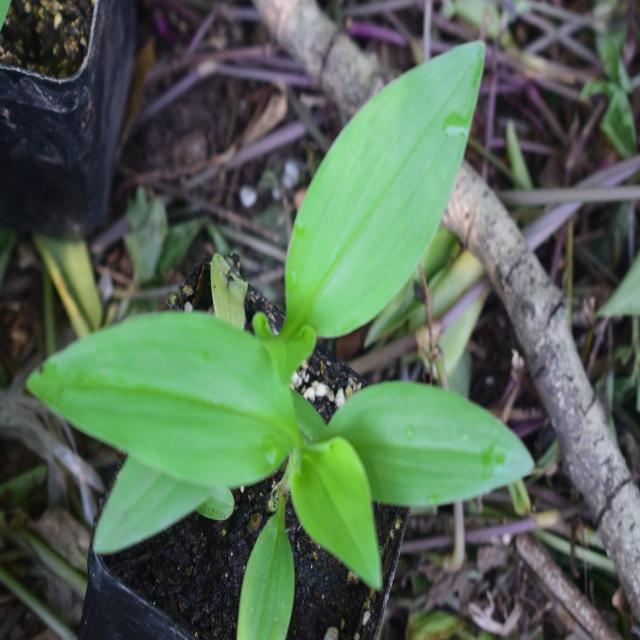Common Dayflower: (35, 322, 517, 548), (232, 50, 528, 308)
